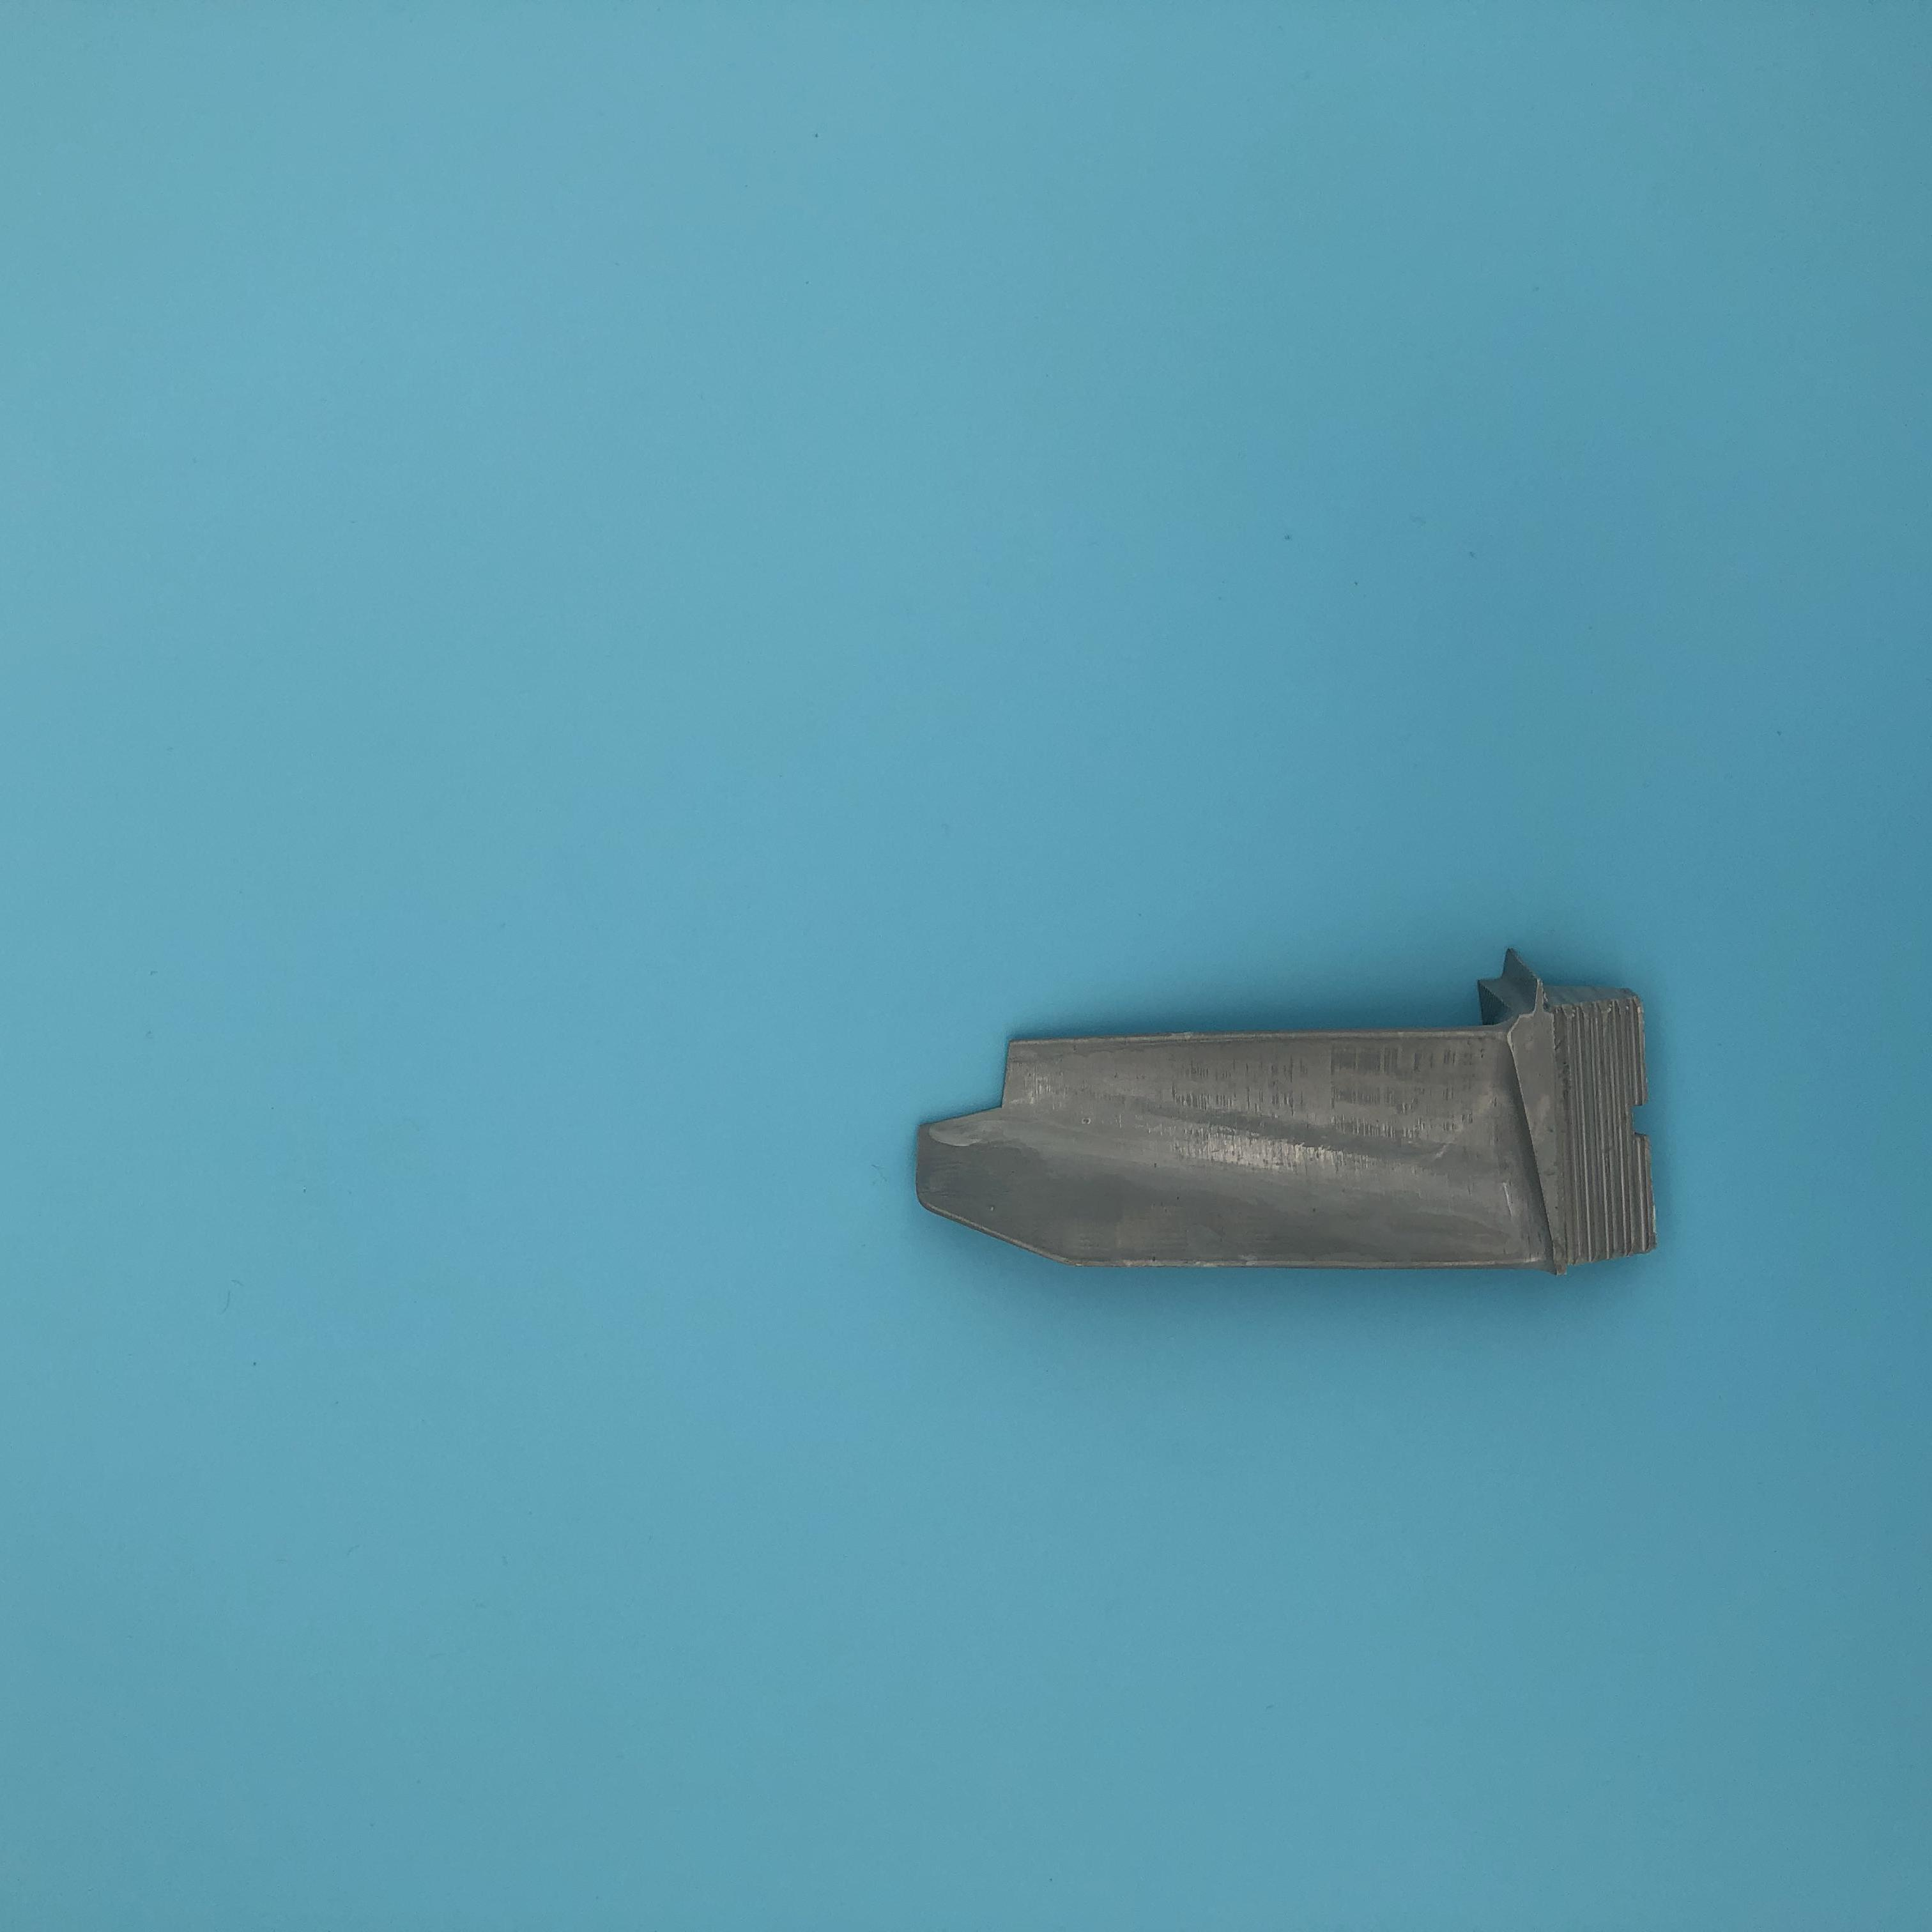fracture: (911, 1040, 1090, 1141)
